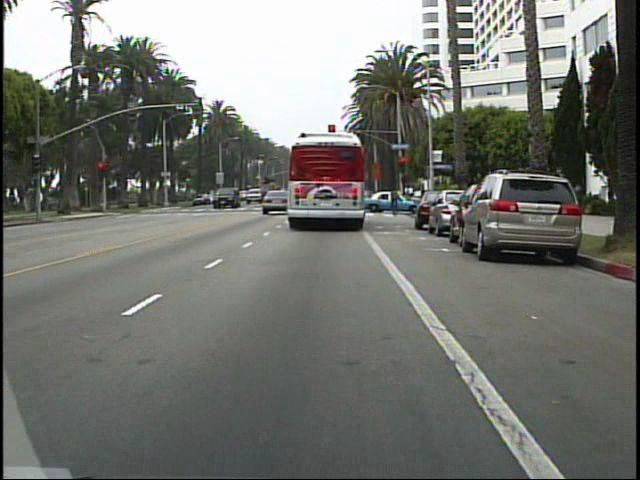person: (385, 185, 403, 217)
